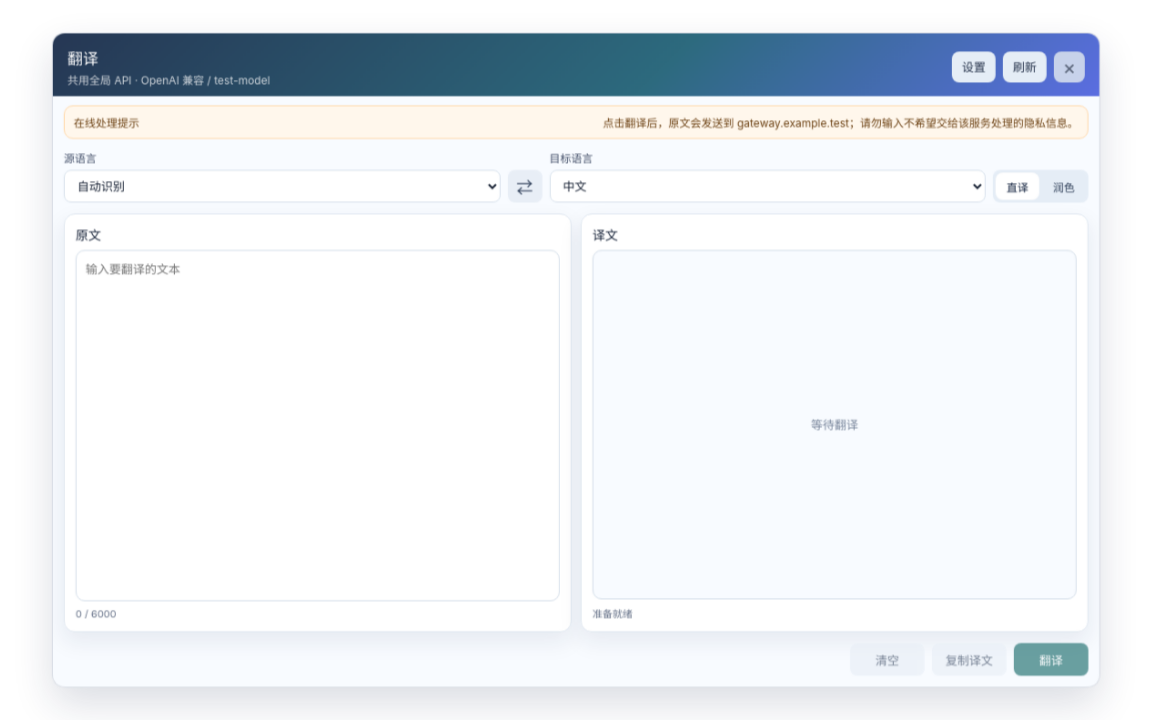
Test: TranslatorWindow › renders light theme with AI enabled=true
The image size is (1152, 720).
Expected: the element with class "translator-notice" shows "在线处理提示", [74,116,139,130]
Expected: the element with class "translator-notice" shows "原文会发送到 gateway.example.test", [603,116,1078,130]
Type "仅用于组件测试的文本" into the text box labelled "原文 0 / 6000" at x=318, y=426, box [76,250,560,601]
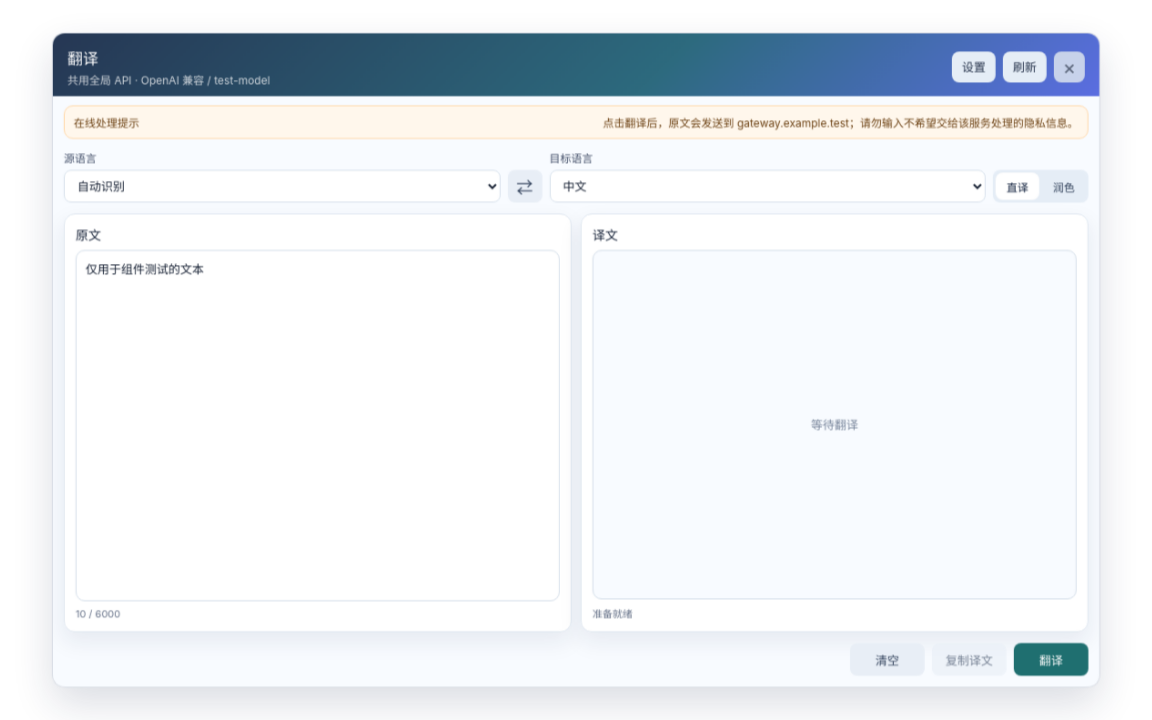
Now the button with class "translator-primary-button" is enabled, box [1014,643,1088,676]
